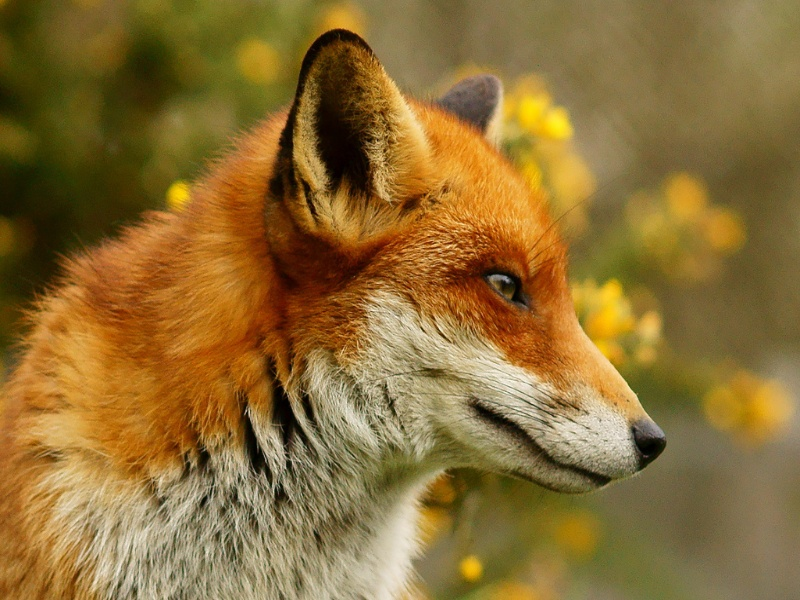fox: (5, 25, 668, 600)
